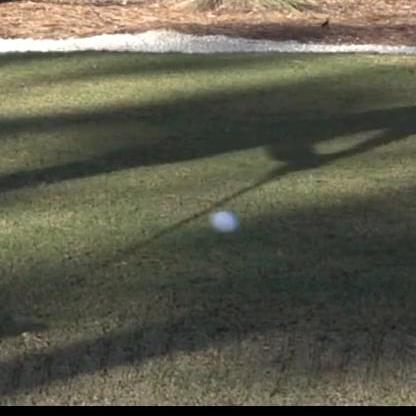golfball: (207, 208, 236, 236)
